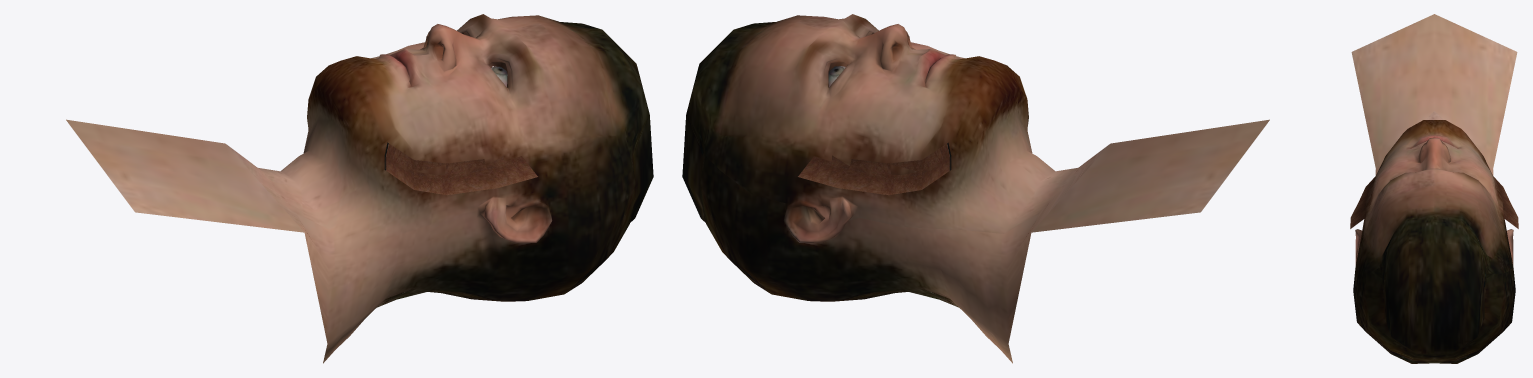
File: head_british_macgregor.glb
3 renders of one model, left to right at view 1: azimuth 30°, elevation 25°; view 2: azimuth 150°, elevation 25°; view 3: azimuth 270°, elevation 25°, orthographic. The views are drawn at different scales.
Bounding box in the file's own units: 20.53 × 9.98 × 7.67.
2 materials, 2 textured.
